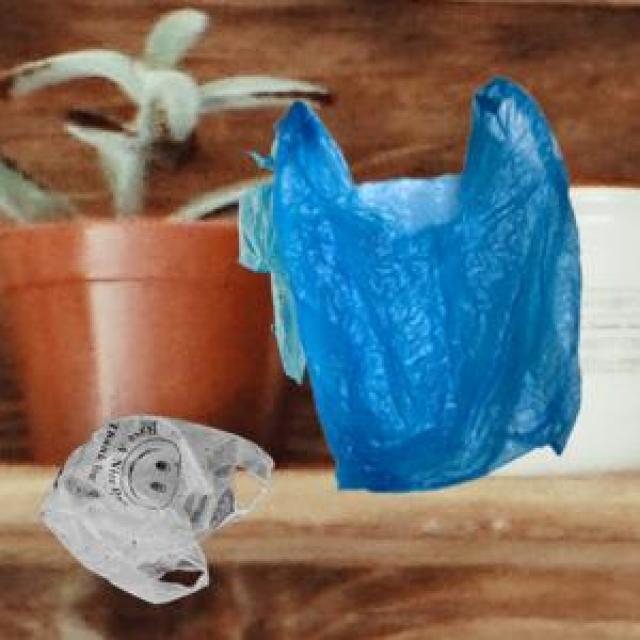plasticcover: (253, 74, 579, 501), (34, 399, 284, 611)
